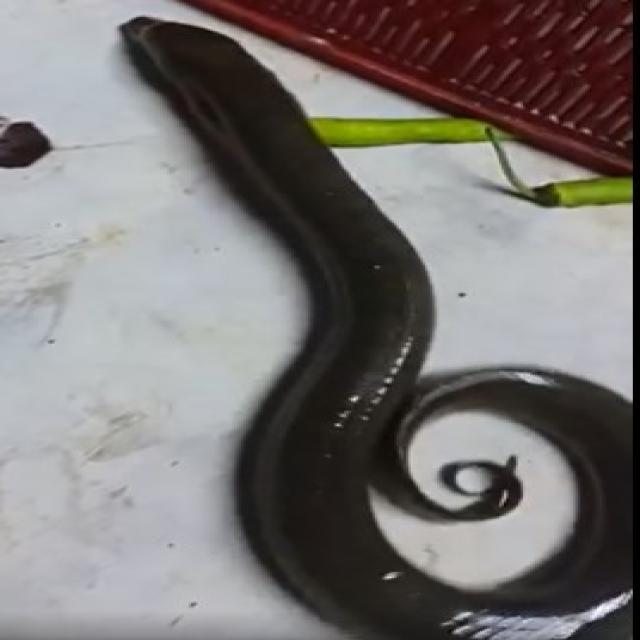Freshwater-Eel: (48, 8, 640, 640)
